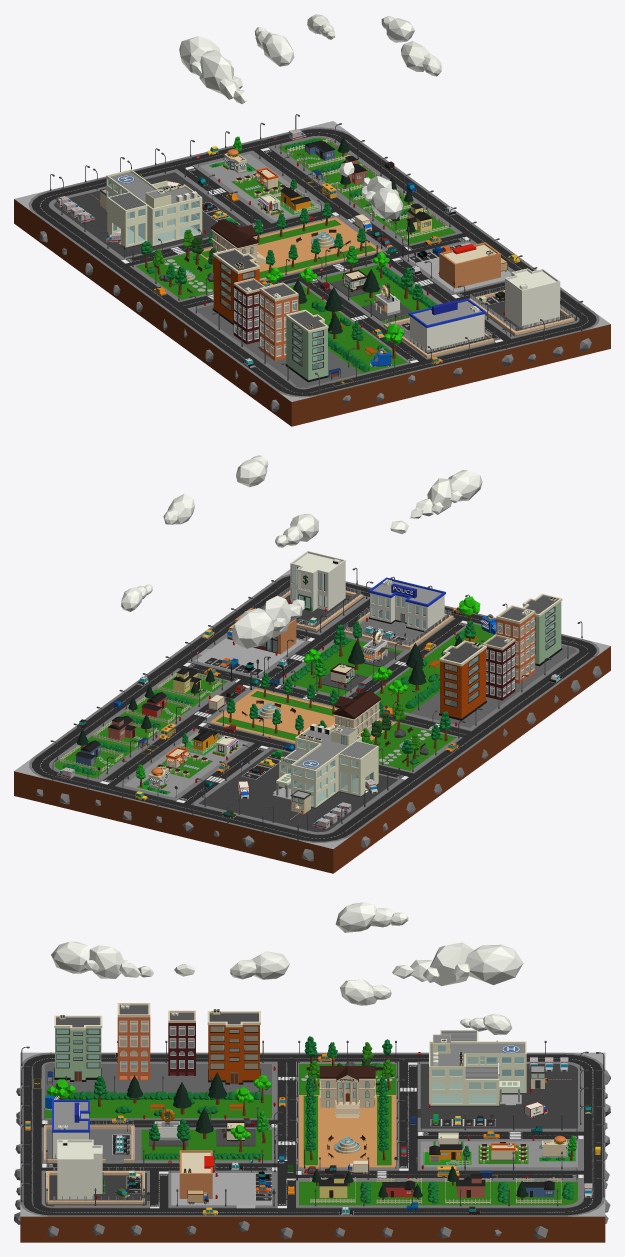
The model's file is low_poly_city.glb.
The picture shows the model from 3 angles, top to bottom: view 1: azimuth 30°, elevation 25°; view 2: azimuth 150°, elevation 25°; view 3: azimuth 270°, elevation 25°; orthographic projection. The views are drawn at different scales.
Visible parts, largest first — view 1: Plane.001, Struttura.004, Piazzetta, Struttura.002, Plane.004, Plane.011, Supermercato, Plane.010, Stazione_polizia, Palazzo1_struttura, Plane.006, Plane.007 (+24 smaller); view 2: Plane.001, Plane.004, Struttura.004, Piazzetta, Plane.011, Struttura.002, Struttura_palazzo2.001, Plane.007, Plane.009, Stazione_polizia, Plane.006, Plane.003 (+24 smaller); view 3: Plane.001, Plane.004, Piazzetta, Struttura.004, Plane.011, Plane.006, Plane.010, Struttura.002, Struttura_palazzo2.001, Plane.009, Plane.007, Struttura_palazzo2 (+47 smaller).
Boxes of the visible parts, <box> form: Plane.001: <box>14,121,610,426</box>; Struttura.004: <box>106,169,202,247</box>; Piazzetta: <box>200,217,381,280</box>; Struttura.002: <box>505,268,560,328</box>; Plane.004: <box>54,172,247,257</box>; Plane.011: <box>278,138,455,243</box>; Supermercato: <box>439,242,500,288</box>; Plane.010: <box>289,285,407,373</box>; Stazione_polizia: <box>410,314,484,352</box>; Palazzo1_struttura: <box>259,291,298,360</box>; Plane.006: <box>194,304,361,387</box>; Plane.007: <box>200,154,323,220</box>; Plane.001: <box>14,569,610,873</box>; Plane.004: <box>198,749,398,832</box>; Struttura.004: <box>279,726,378,807</box>; Piazzetta: <box>210,688,395,742</box>; Plane.011: <box>54,674,227,778</box>; Struttura.002: <box>290,551,345,610</box>; Struttura_palazzo2.001: <box>440,649,485,718</box>; Plane.007: <box>123,730,247,797</box>; Plane.009: <box>195,637,304,675</box>; Stazione_polizia: <box>370,593,444,631</box>; Plane.006: <box>410,645,576,727</box>; Plane.003: <box>371,722,455,770</box>; Plane.001: <box>20,1052,605,1242</box>; Plane.004: <box>417,1064,577,1128</box>; Piazzetta: <box>299,1095,396,1167</box>; Struttura.004: <box>429,1030,526,1105</box>; Plane.011: <box>299,1181,577,1205</box>; Plane.006: <box>44,1063,271,1094</box>; Plane.010: <box>45,1094,271,1118</box>; Struttura.002: <box>57,1139,103,1199</box>; Struttura_palazzo2.001: <box>208,1025,259,1082</box>; Plane.009: <box>171,1173,271,1208</box>; Plane.007: <box>420,1141,577,1167</box>; Struttura_palazzo2: <box>55,1028,101,1079</box>.
Bounding box in the file's own units: 102 × 69.89 × 151.
Materials: 7 (4 with a texture image).
